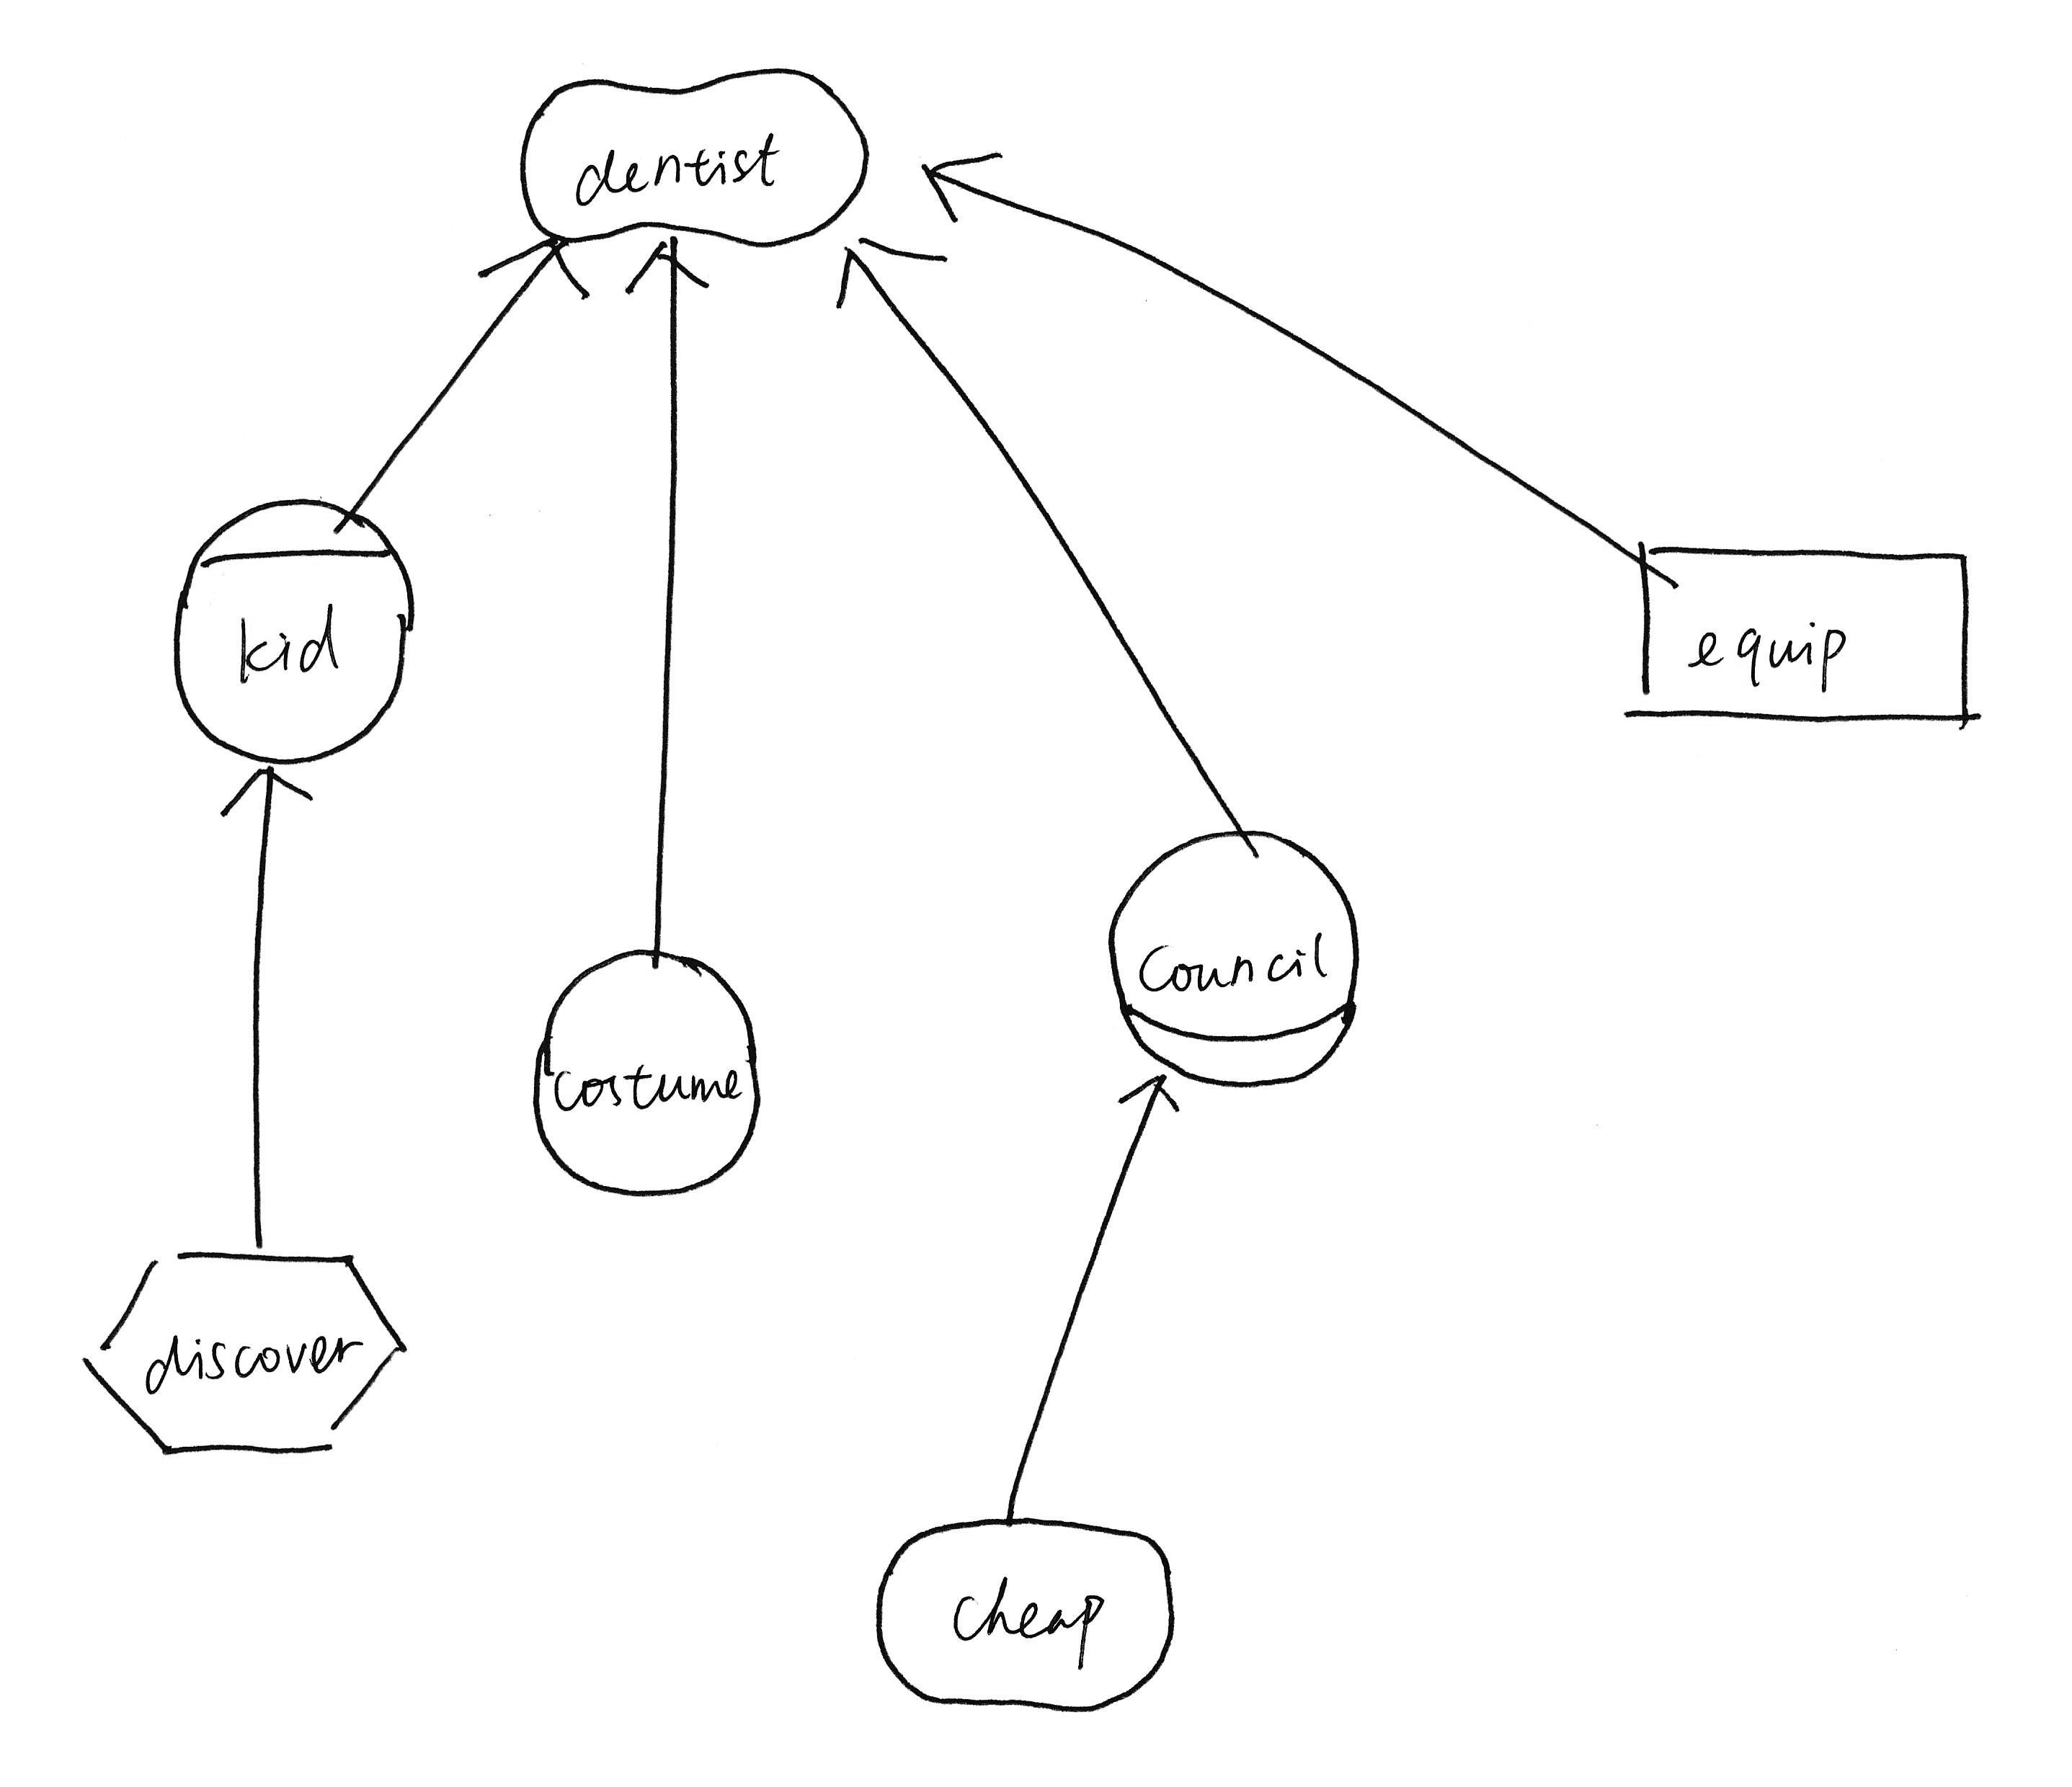actor: (511, 932, 779, 1212)
agent: (157, 490, 433, 781)
arrow: (469, 217, 597, 317), (825, 227, 957, 323), (909, 130, 1013, 234), (210, 753, 319, 834), (617, 224, 719, 310), (1094, 1063, 1193, 1140)
goal: (858, 1502, 1202, 1731)
quality: (506, 44, 879, 263)
resource: (1614, 525, 1996, 747)
role: (1094, 814, 1376, 1101)
task: (62, 1227, 435, 1475)
